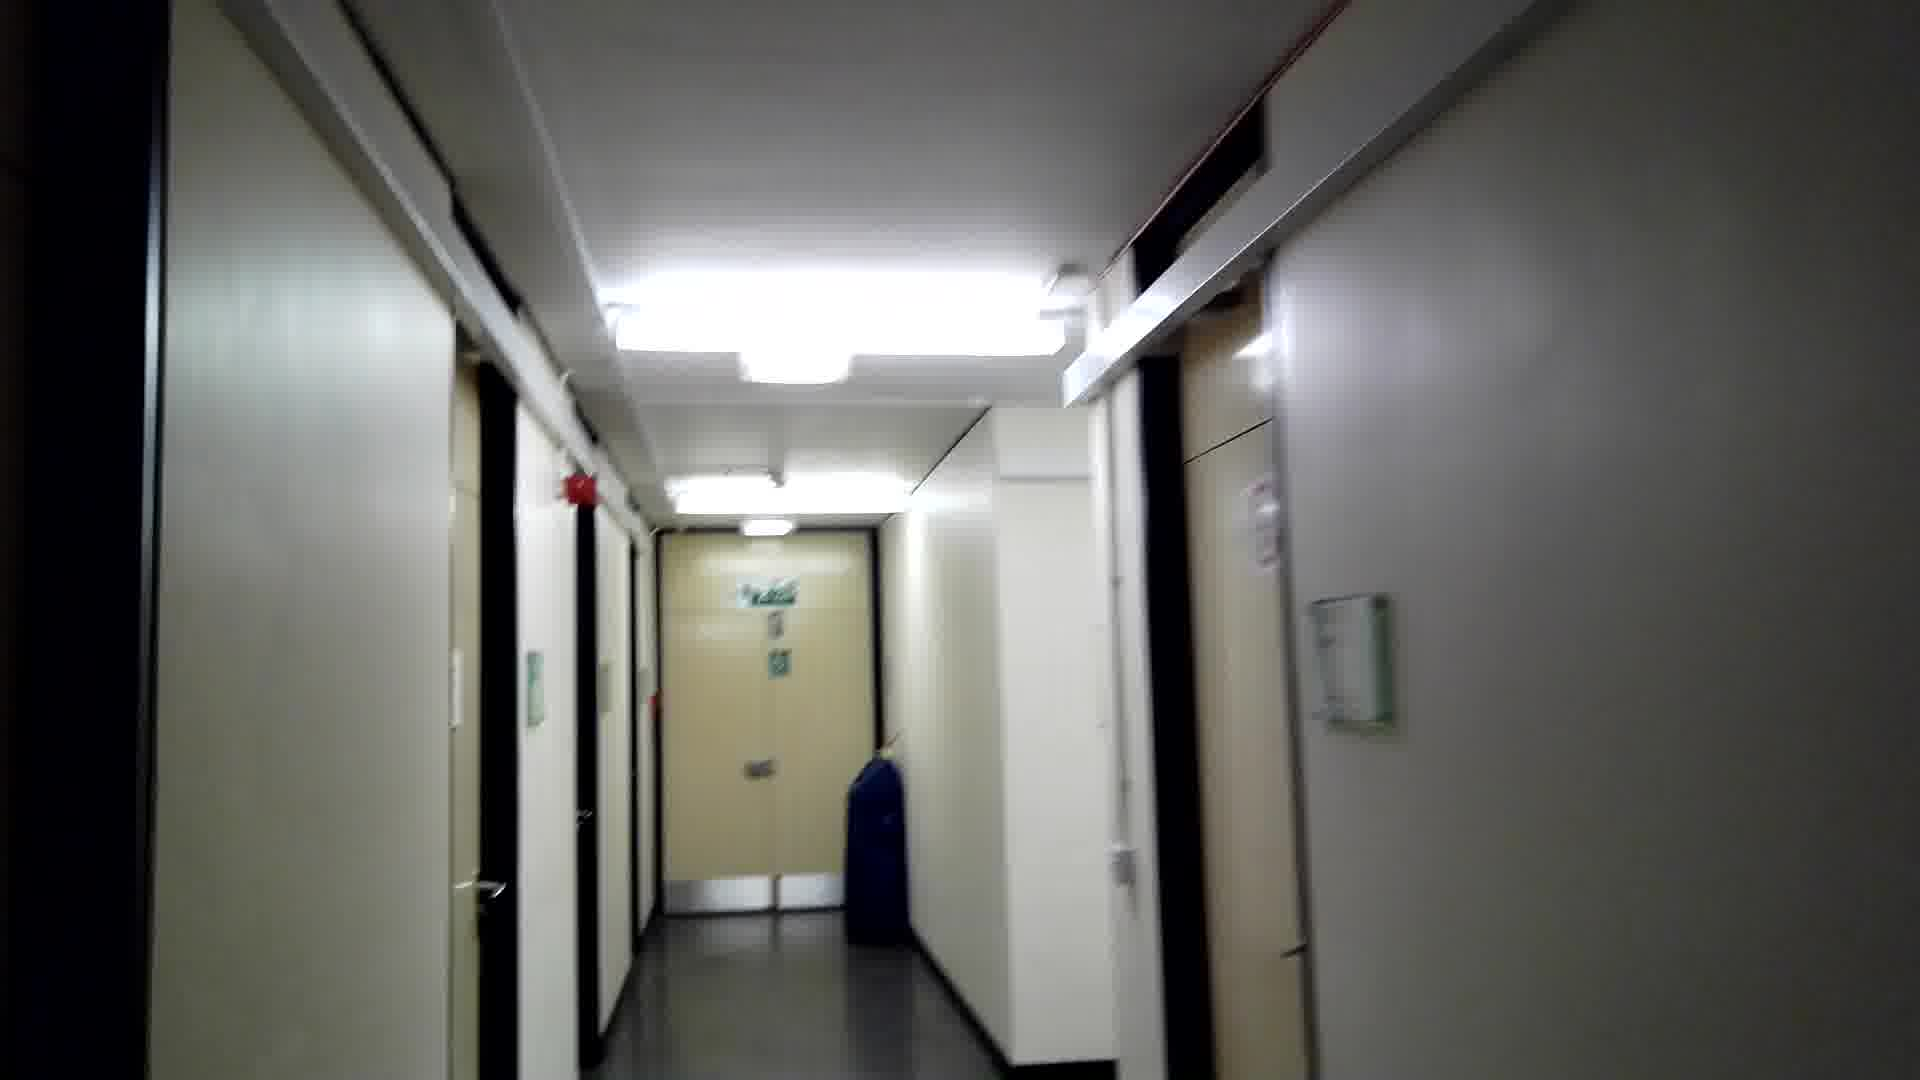Bin: (837, 746, 930, 964)
Door: (1174, 78, 1294, 1080), (440, 183, 533, 1080)
